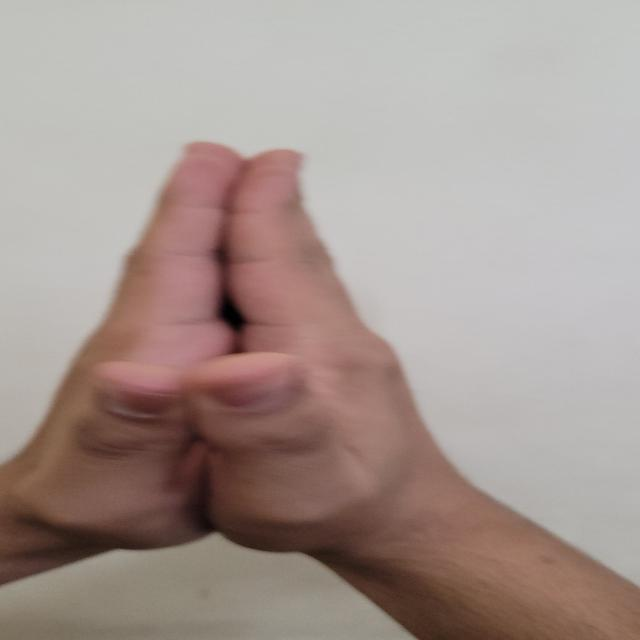Thank You: (37, 130, 535, 637)
